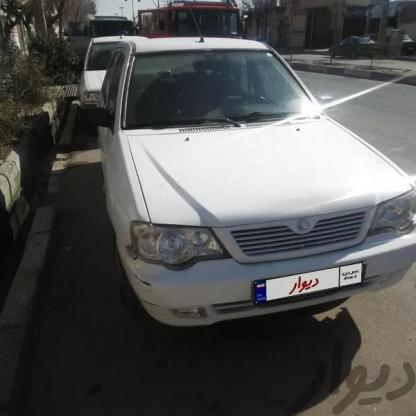Bus: (132, 1, 245, 46)
Car: (107, 33, 416, 312), (75, 35, 131, 110)
